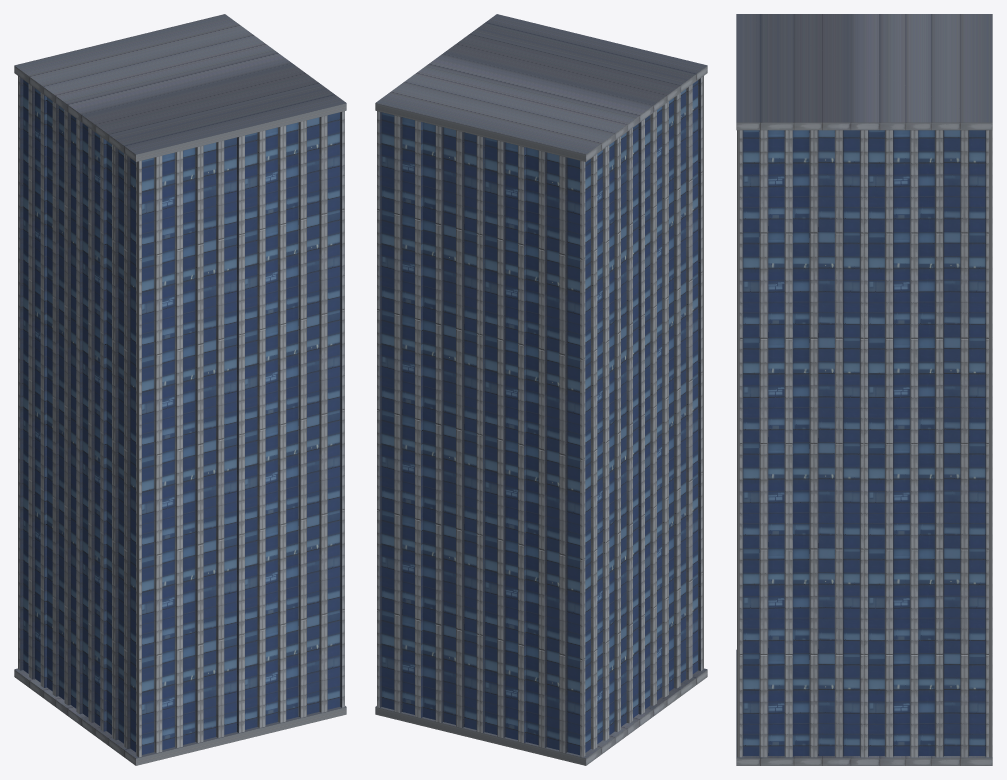
Rendered from building1_0.glb.
3 views of the same model, side by side, from view 1: azimuth 30°, elevation 25°; view 2: azimuth 150°, elevation 25°; view 3: azimuth 270°, elevation 25° (orthographic). The views are drawn at different scales.
Visible parts, largest first — view 1: Cube.001; view 2: Cube.001; view 3: Cube.001.
Part boxes in pixels (x1,y1,x2,y2): Cube.001: (14,14,346,765); Cube.001: (375,14,707,765); Cube.001: (736,14,992,765).
Bounding box in the file's own units: 2.21 × 6.11 × 2.21.
2 materials, 2 textured.
